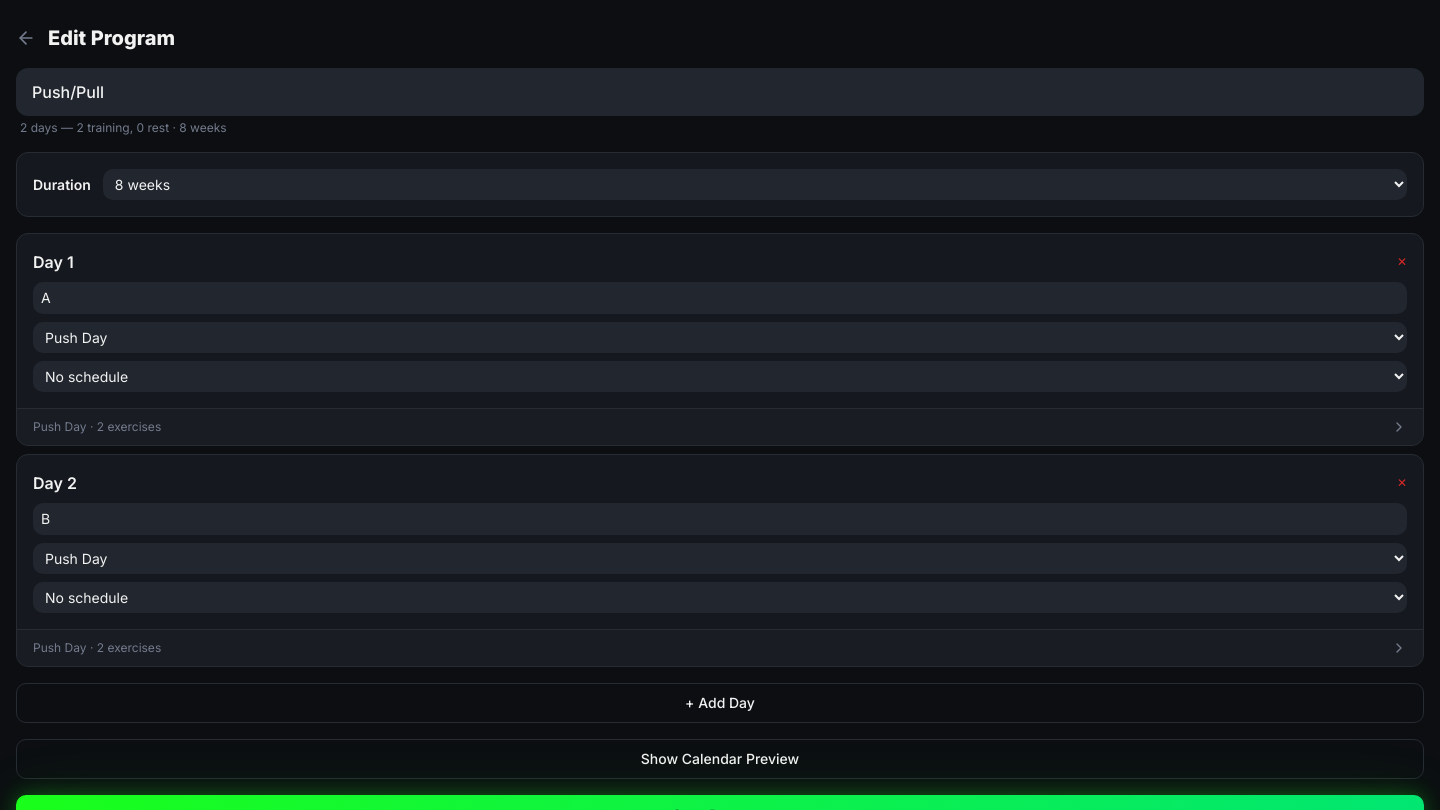
Test: editing a template inside its tile › shows one edit in every tile that uses the template
This screenshot has width=1440, height=810.
Click the 1st button "Push Day · 2 exercises".
click(60, 426)  # box x1=17 y1=408 x2=1423 y2=445
(page scrolled)
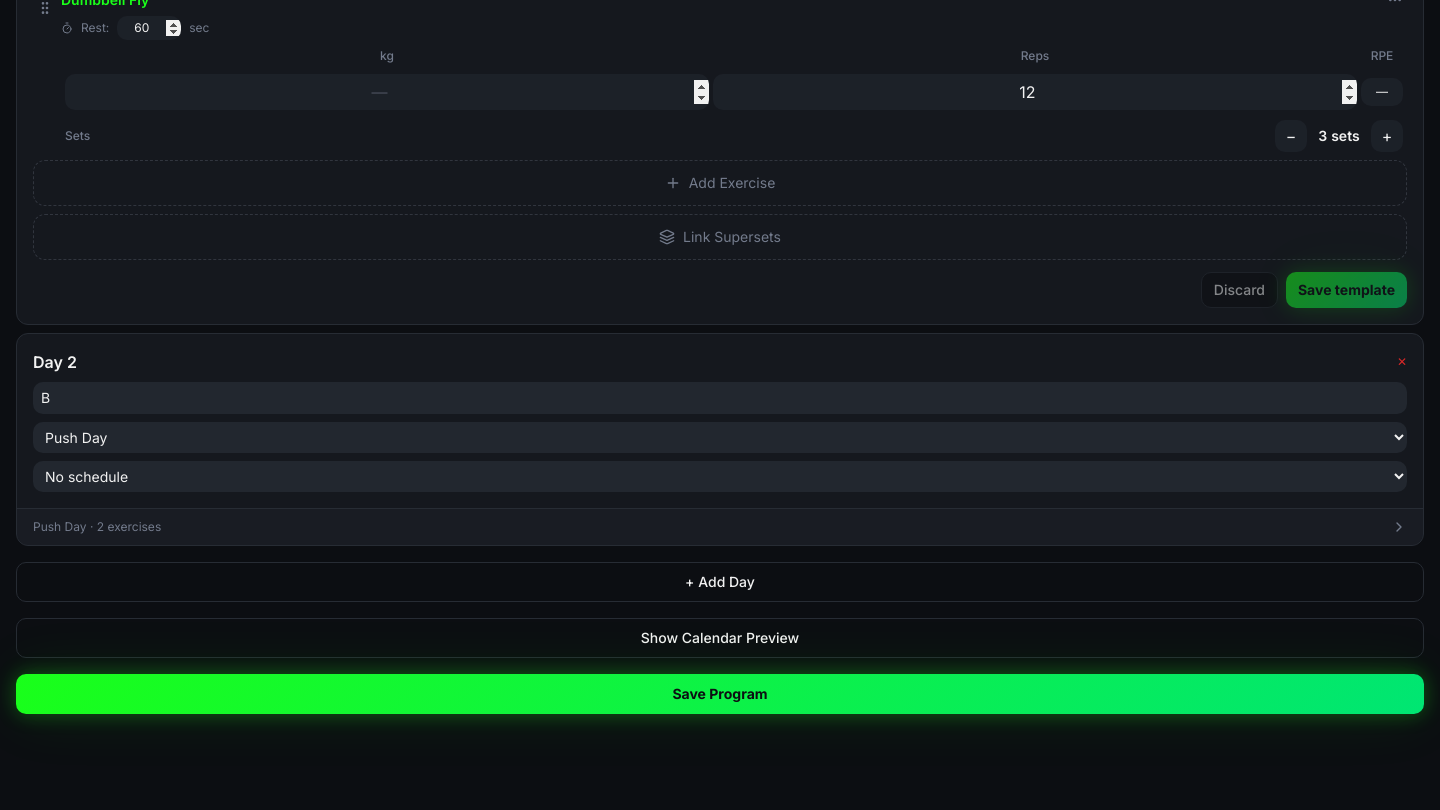
Click the button "Push Day · 2 exercises".
click(60, 526)  # box x1=17 y1=508 x2=1423 y2=545
(page scrolled)
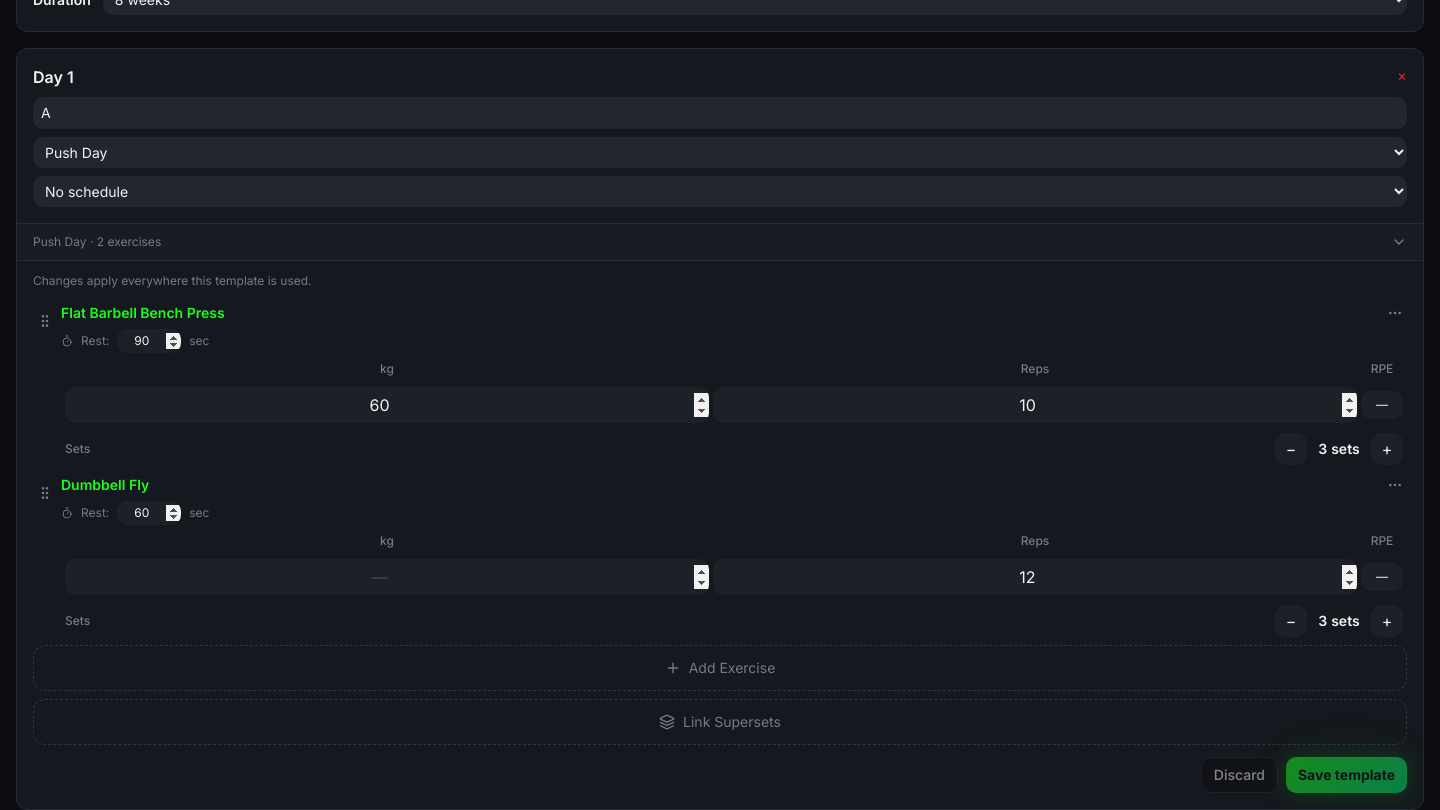
Replace the text in the 3rd number field with placeholder "—" with "8" at (1035, 405), box x1=713 y1=387 x2=1357 y2=423
(page scrolled)
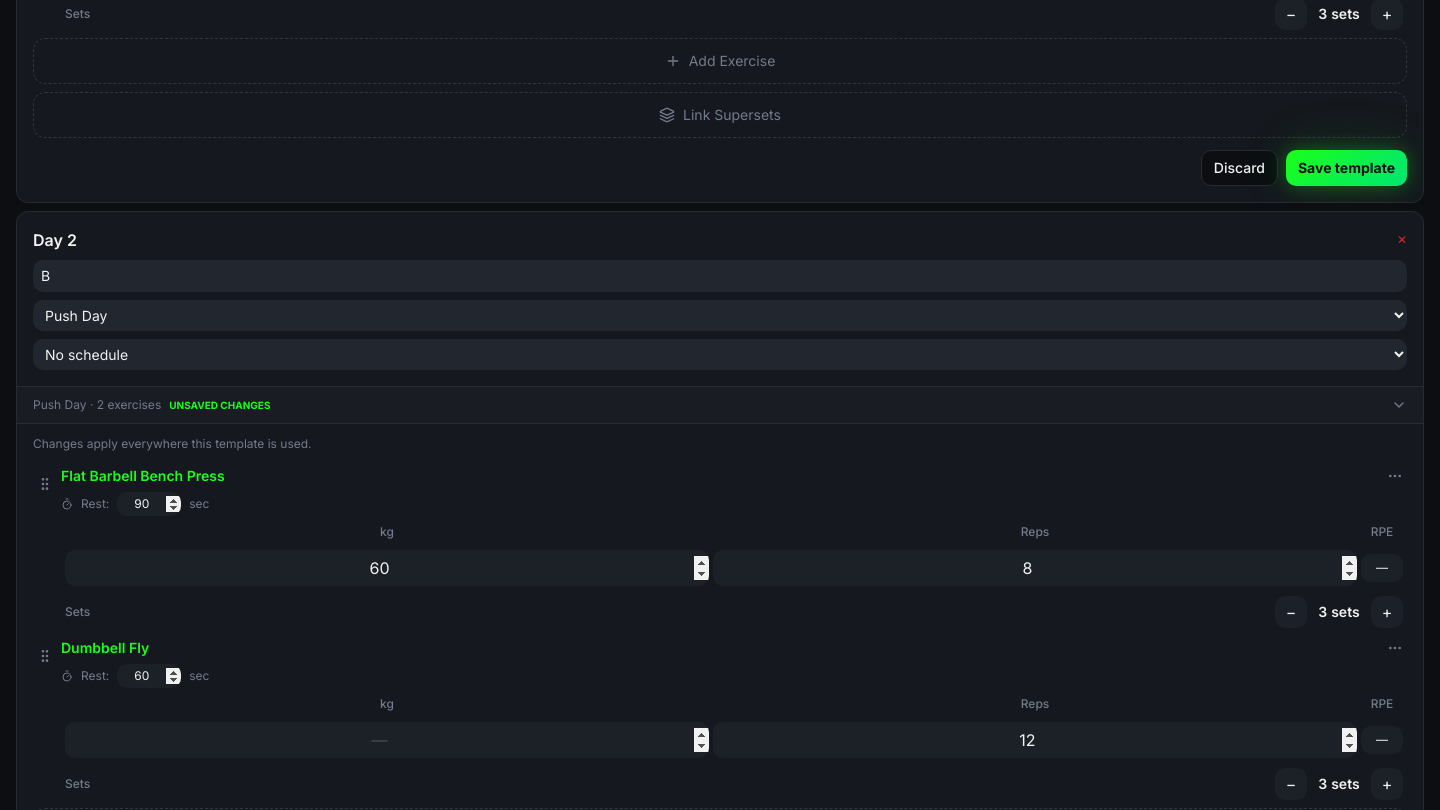
Now the 3rd number field with placeholder "—" holds "8", box x1=713 y1=550 x2=1357 y2=586
Now the text "Unsaved changes" is shown, box x1=169 y1=398 x2=270 y2=412
